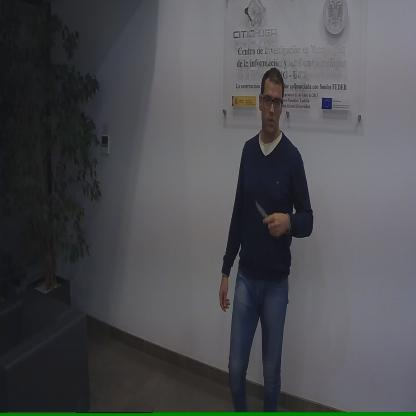knife: (254, 196, 280, 238)
